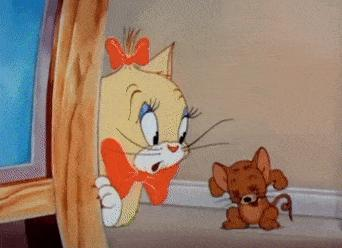jerry: (206, 146, 297, 232)
